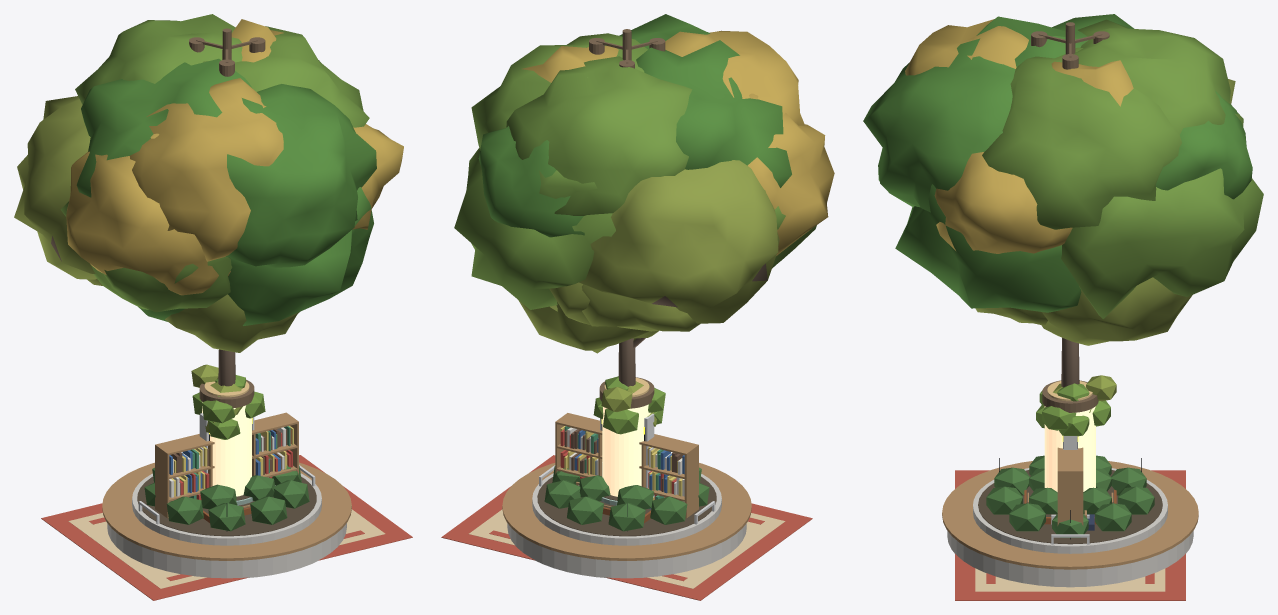
The model's file is masters.glb.
3 views of the same model, side by side, from view 1: azimuth 30°, elevation 25°; view 2: azimuth 150°, elevation 25°; view 3: azimuth 270°, elevation 25° (orthographic). The views are drawn at different scales.
Parts seen in each view (by area): view 1: M__PRA_Tree_0, M__PRA_Tree_3, M__P_RingBench, M__PRA_Tree_1, M__PRA_Tree_2, M__P_Rug_0, M__P_BookShelf, M__P_MediaColumn, M__P_PotTree, M__P_Planter, M__P_LampMast; view 2: M__PRA_Tree_1, M__PRA_Tree_2, M__P_RingBench, M__PRA_Tree_0, M__PRA_Tree_3, M__P_Rug_0, M__P_BookShelf, M__P_MediaColumn, M__P_PotTree, M__P_Planter, M__P_LampMast; view 3: M__PRA_Tree_1, M__PRA_Tree_0, M__P_RingBench, M__PRA_Tree_3, M__PRA_Tree_2, M__P_Rug_0, M__P_MediaColumn, M__P_PotTree, M__P_Planter, M__P_BookShelf, M__P_LampMast.
Boxes of the visible parts, left/top/right/bottom form: M__PRA_Tree_0: left=76, top=58, right=376, bottom=325; M__PRA_Tree_3: left=66, top=19, right=403, bottom=295; M__P_RingBench: left=102, top=462, right=351, bottom=578; M__PRA_Tree_1: left=60, top=14, right=369, bottom=386; M__PRA_Tree_2: left=14, top=96, right=299, bottom=352; M__P_Rug_0: left=41, top=455, right=412, bottom=600; M__P_BookShelf: left=155, top=412, right=298, bottom=518; M__P_MediaColumn: left=199, top=379, right=254, bottom=496; M__P_PotTree: left=191, top=364, right=265, bottom=505; M__P_Planter: left=200, top=475, right=274, bottom=523; M__P_LampMast: left=189, top=28, right=265, bottom=76; M__PRA_Tree_1: left=454, top=33, right=816, bottom=386; M__PRA_Tree_2: left=518, top=160, right=779, bottom=353; M__P_RingBench: left=502, top=463, right=751, bottom=578; M__PRA_Tree_0: left=478, top=14, right=791, bottom=237; M__PRA_Tree_3: left=522, top=30, right=834, bottom=255; M__P_Rug_0: left=441, top=455, right=812, bottom=600; M__P_BookShelf: left=555, top=413, right=698, bottom=518; M__P_MediaColumn: left=599, top=377, right=654, bottom=496; M__P_PotTree: left=593, top=376, right=665, bottom=505; M__P_Planter: left=579, top=475, right=653, bottom=523; M__P_LampMast: left=589, top=29, right=665, bottom=68; M__PRA_Tree_1: left=982, top=19, right=1263, bottom=387; M__PRA_Tree_0: left=863, top=14, right=1252, bottom=312; M__P_RingBench: left=942, top=455, right=1198, bottom=587; M__PRA_Tree_3: left=905, top=19, right=1133, bottom=253; M__PRA_Tree_2: left=975, top=79, right=1235, bottom=345; M__P_Rug_0: left=955, top=470, right=1185, bottom=600; M__P_MediaColumn: left=1042, top=380, right=1098, bottom=491; M__P_PotTree: left=1036, top=375, right=1116, bottom=436; M__P_Planter: left=1024, top=468, right=1116, bottom=524; M__P_BookShelf: left=1057, top=447, right=1083, bottom=525; M__P_LampMast: left=1031, top=22, right=1109, bottom=69.
Size of the model in its own units: 7.16 by 11.98 by 7.81.
